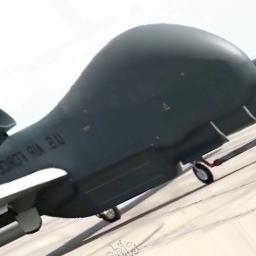ghawk: (0, 123, 256, 242)
